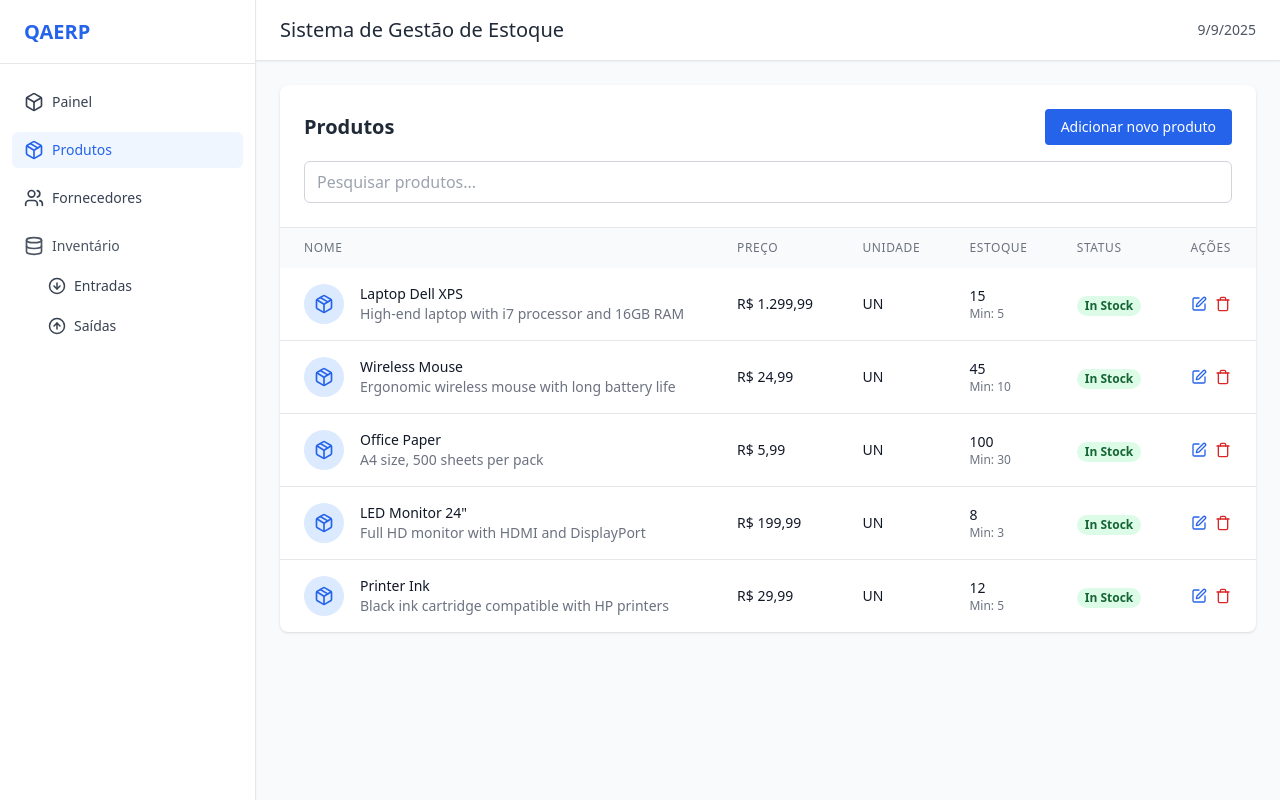
Produtos › Adicionar Produtos › Adicionar produto sem passar estoque atual
Click the button "Adicionar novo produto".
click(1139, 127)  # box [1045,109,1232,145]
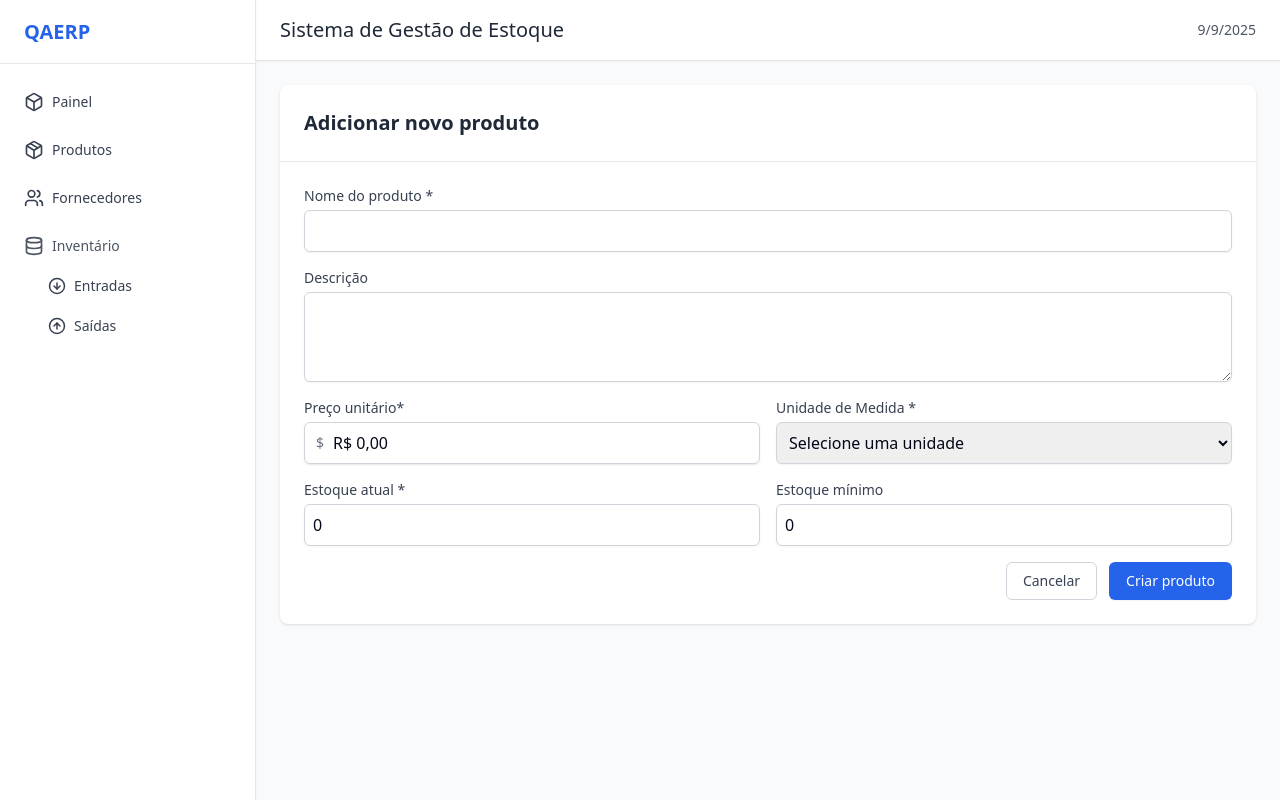
Type "Mouse Gamer" into the field with id "name".
click(768, 231); type("Mouse Gamer")  # box [304,210,1232,252]
Type "Razer" into the text box with id "description".
click(768, 337); type("Razer")  # box [304,292,1232,382]
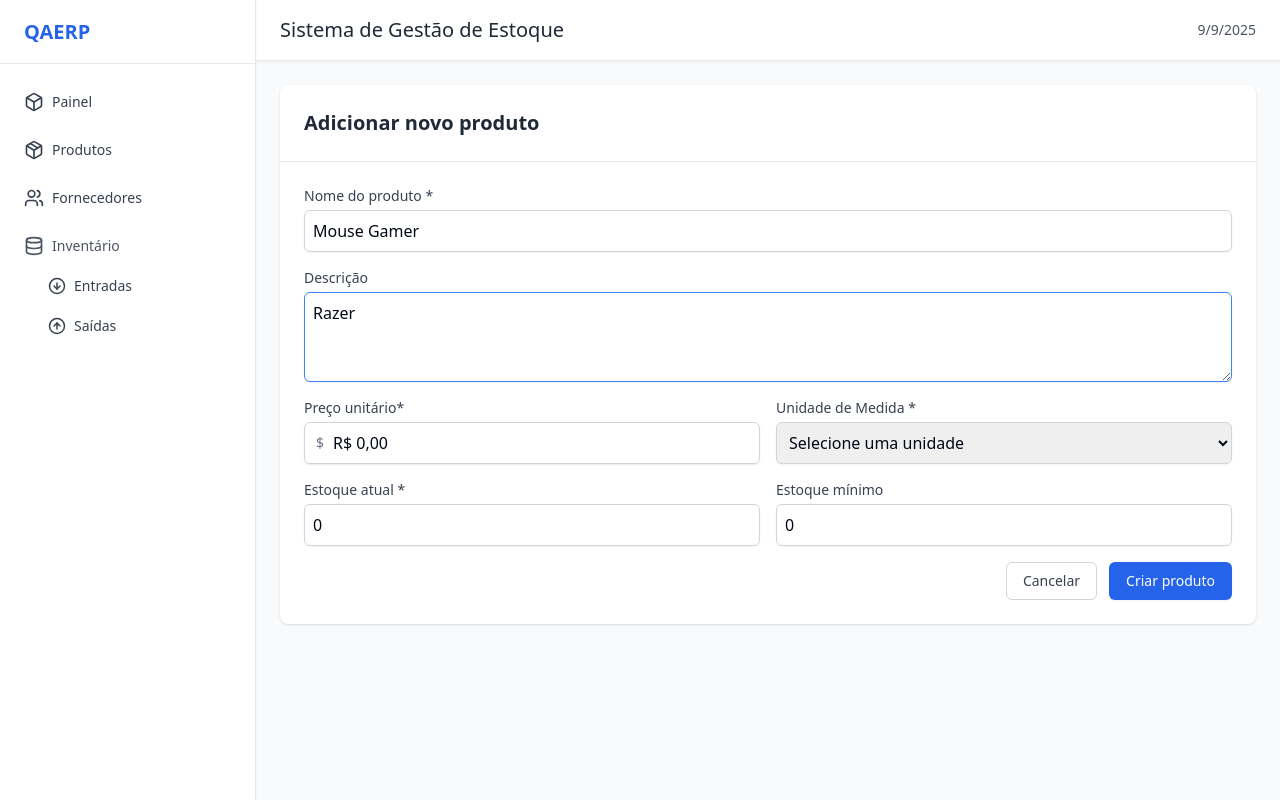
Replace the text in the field with id "unitPrice" with "250" at (532, 443), box [304,422,760,464]
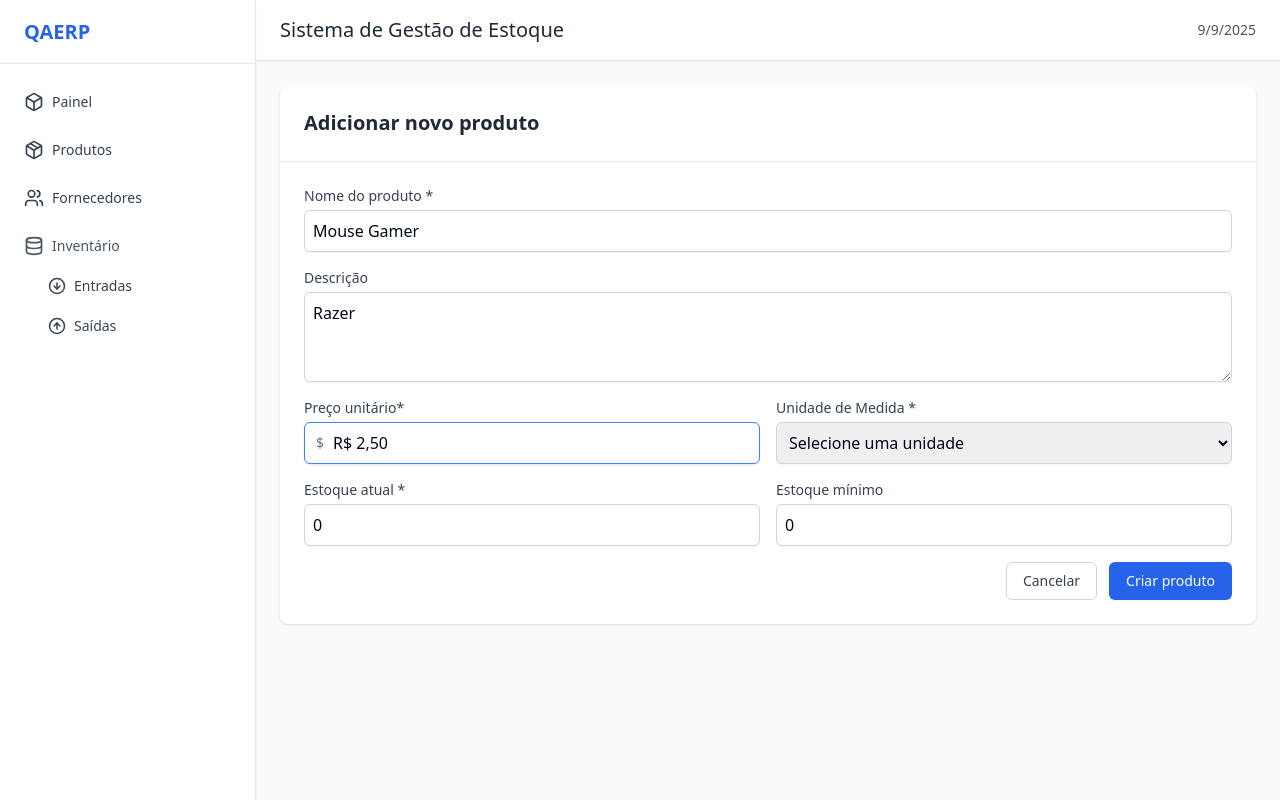
Select "Unidade (UN)" in the dropdown with id "unitOfMeasurement" at (1004, 443), box [776,422,1232,464]
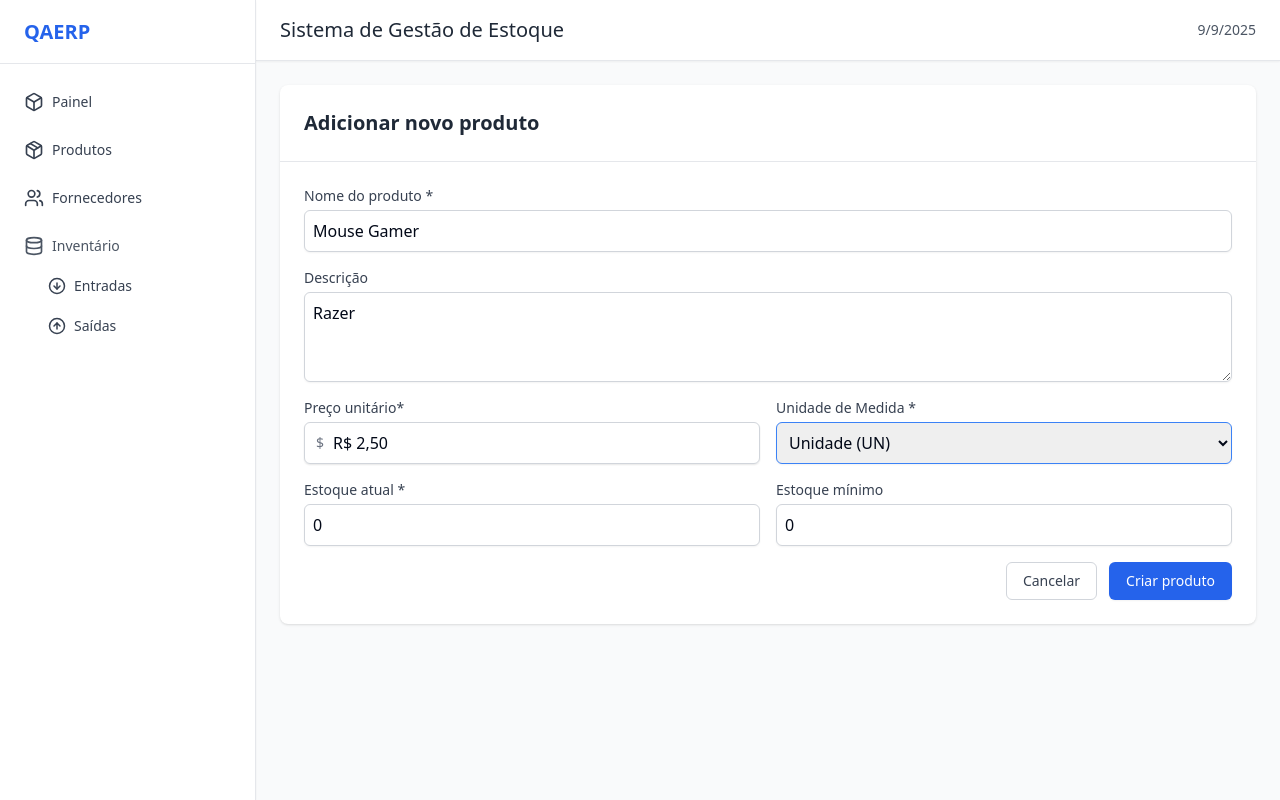
Replace the text in the number field with id "minimumStock" with "1" at (1004, 525), box [776,504,1232,546]
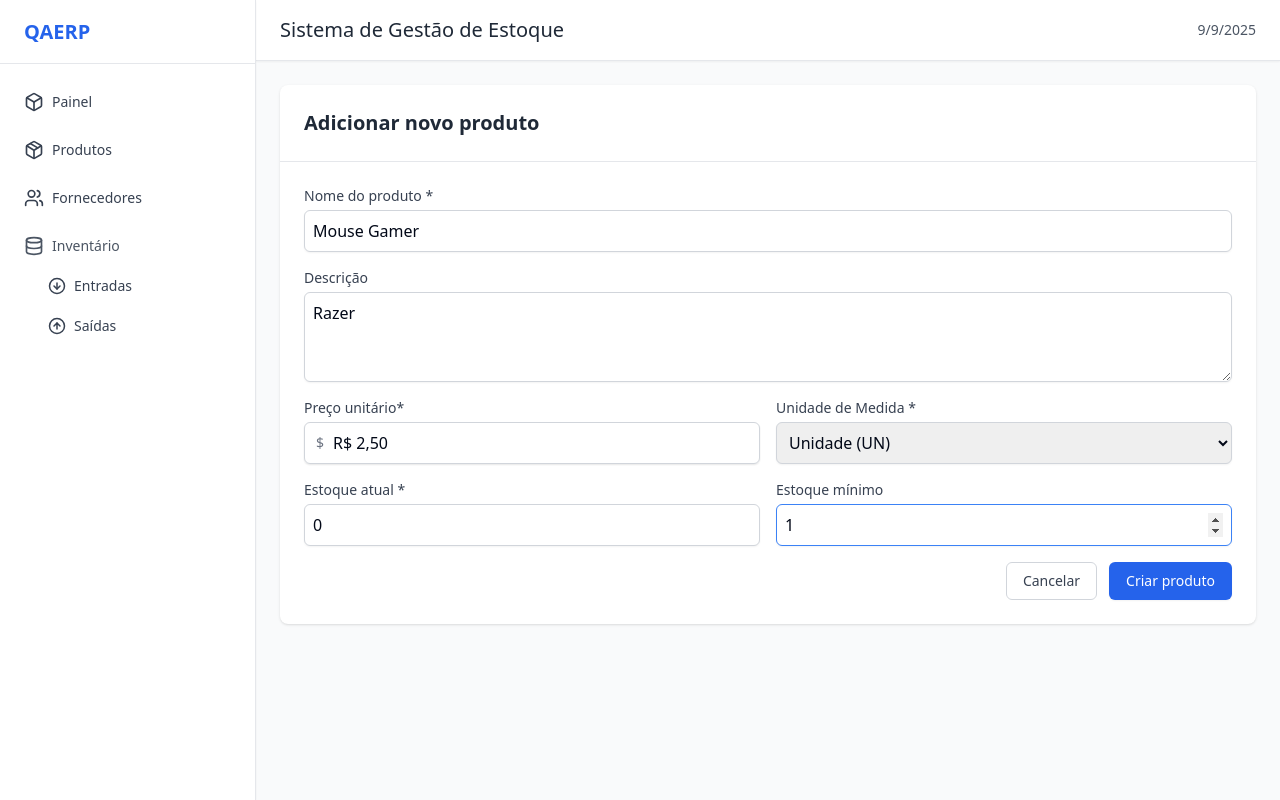
Click the button "Criar produto".
click(1171, 581)  # box [1109,562,1232,600]
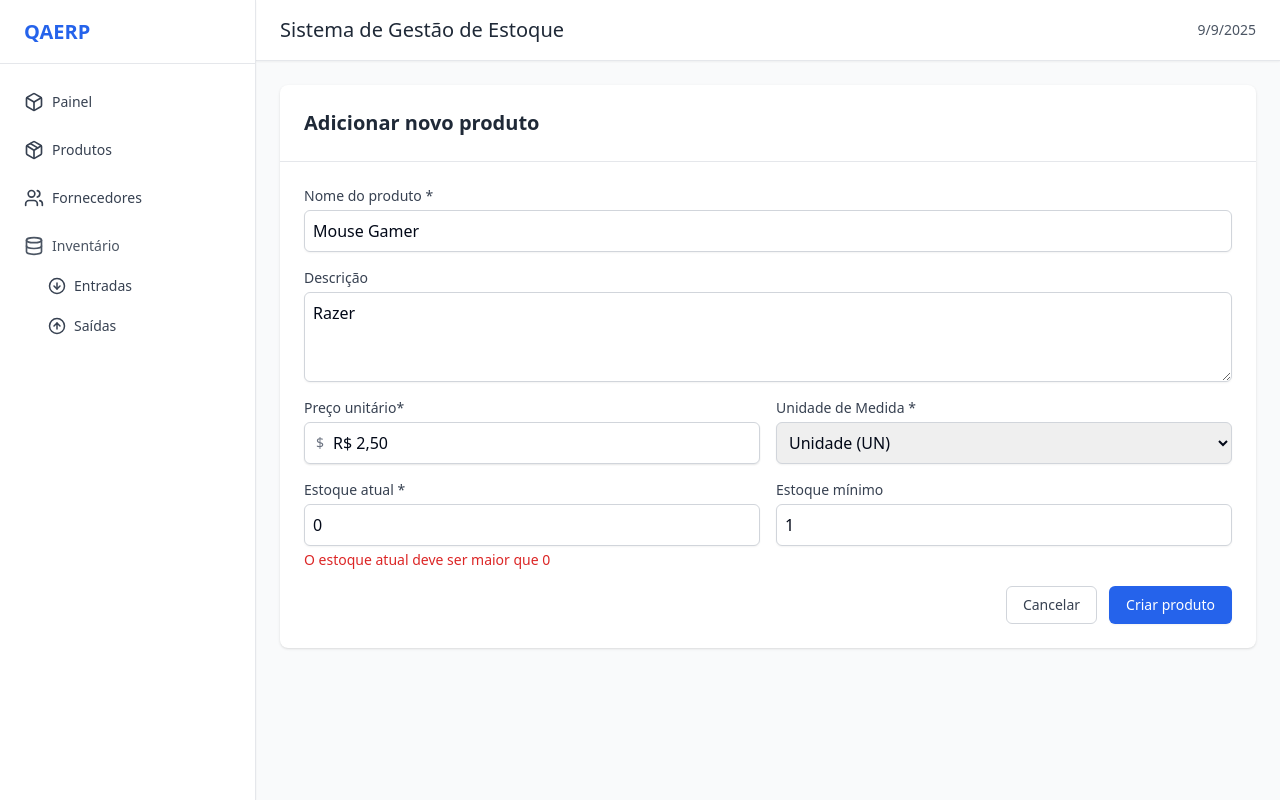
Expected: the text "O estoque atual deve ser maior que 0" is shown, [304,550,550,569]
